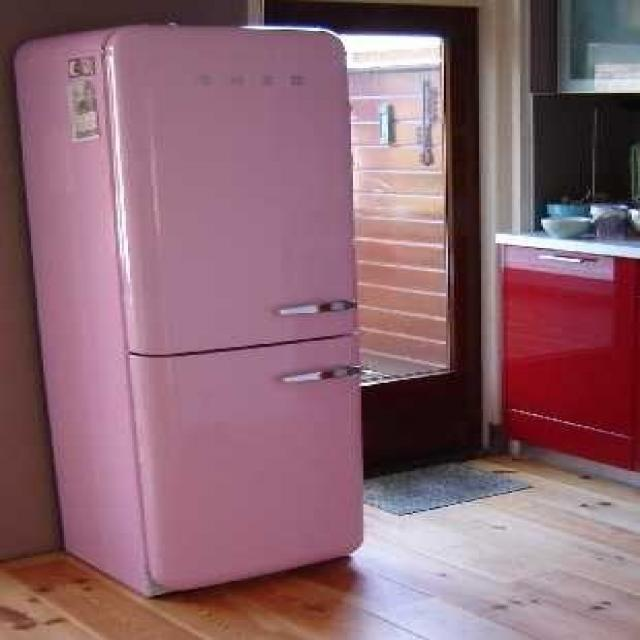refrigerator: (101, 26, 367, 604)
